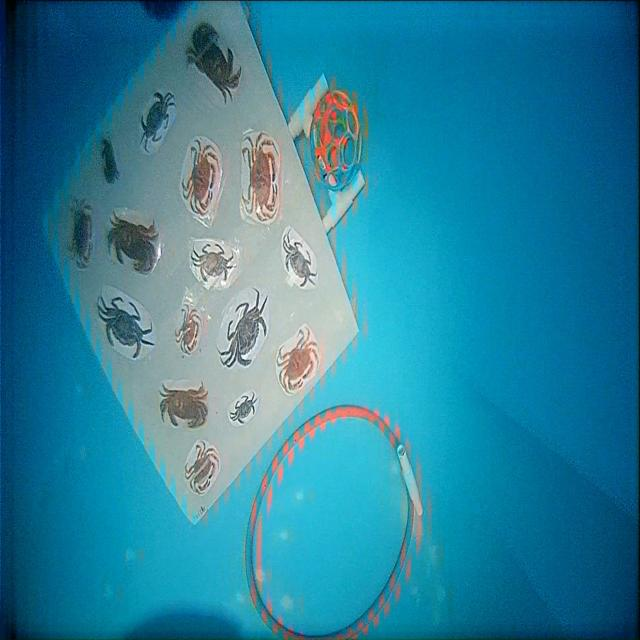GreenCrab: (218, 289, 268, 367), (97, 296, 154, 359), (283, 231, 317, 287), (141, 92, 172, 152), (192, 244, 233, 283), (230, 392, 257, 424)
